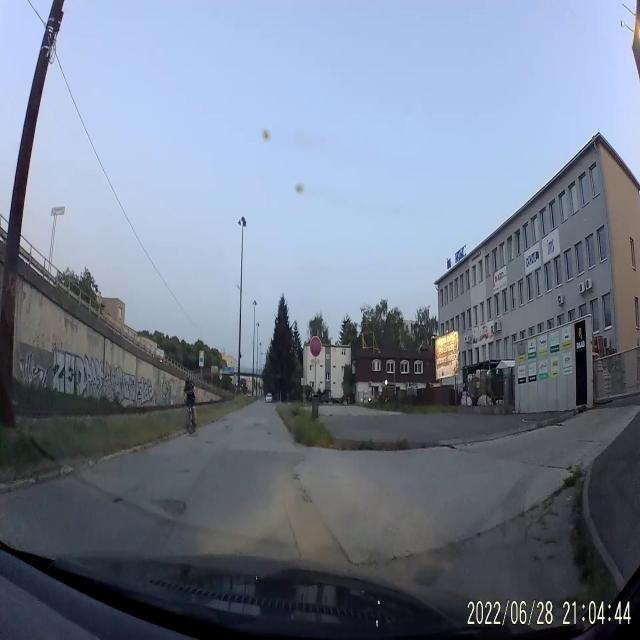Pothole: (149, 496, 188, 524), (177, 462, 192, 478), (113, 491, 124, 502), (206, 440, 213, 450), (223, 421, 230, 429), (252, 421, 262, 426), (265, 430, 273, 436)
